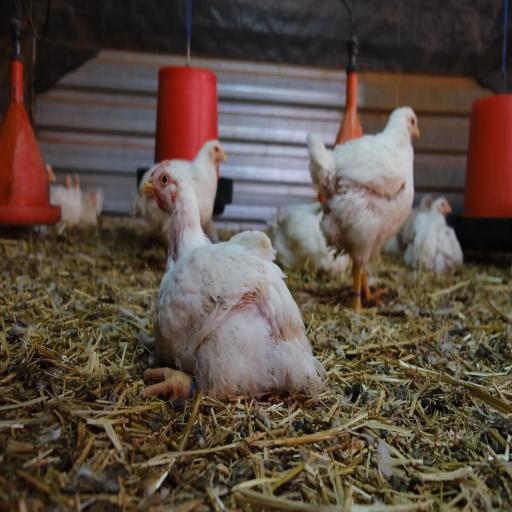healthy: (136, 146, 192, 219), (394, 90, 432, 163)
